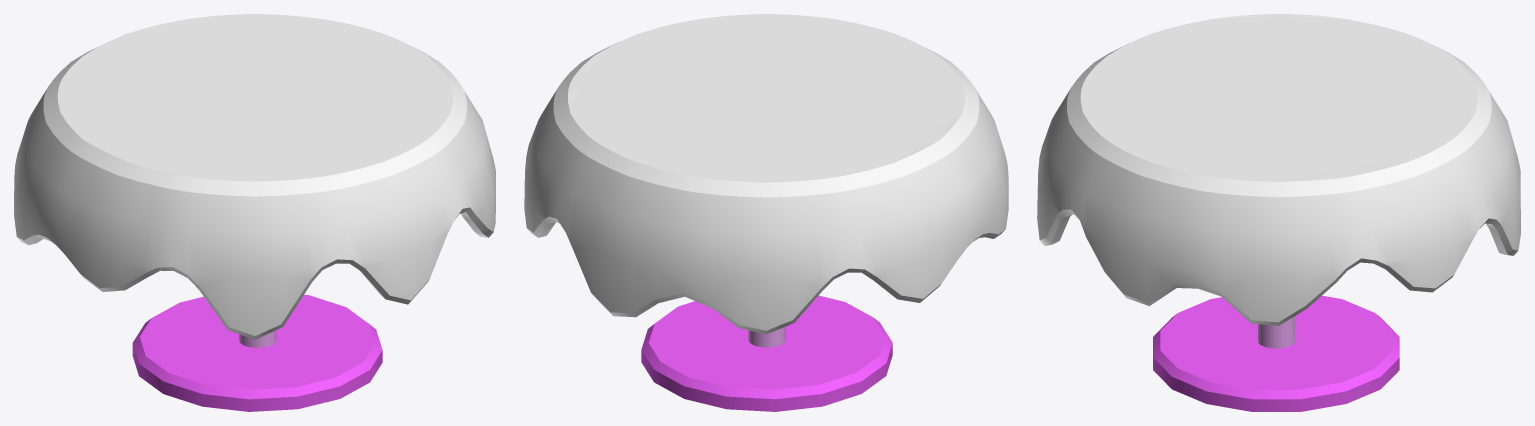
The model's file is RoundTable.fbx.
The picture shows the model from 3 angles, left to right: view 1: azimuth 30°, elevation 25°; view 2: azimuth 150°, elevation 25°; view 3: azimuth 270°, elevation 25°; orthographic projection.
Parts seen in each view (by area): view 1: RoundTable_LOD0; view 2: RoundTable_LOD0; view 3: RoundTable_LOD0.
Boxes of the visible parts, x1,y1,x2,y2 form: RoundTable_LOD0: (14, 14, 495, 411); RoundTable_LOD0: (524, 14, 1008, 411); RoundTable_LOD0: (1037, 14, 1520, 411).
Size of what is drawn, in the model's own units: 219 by 131 by 219.
